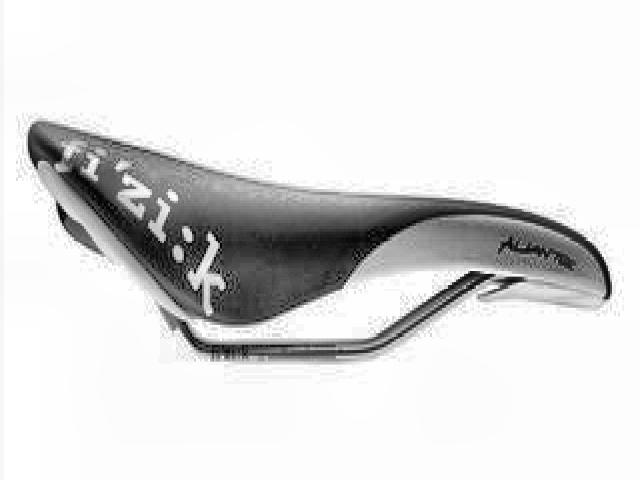saddle: (21, 117, 616, 367)
